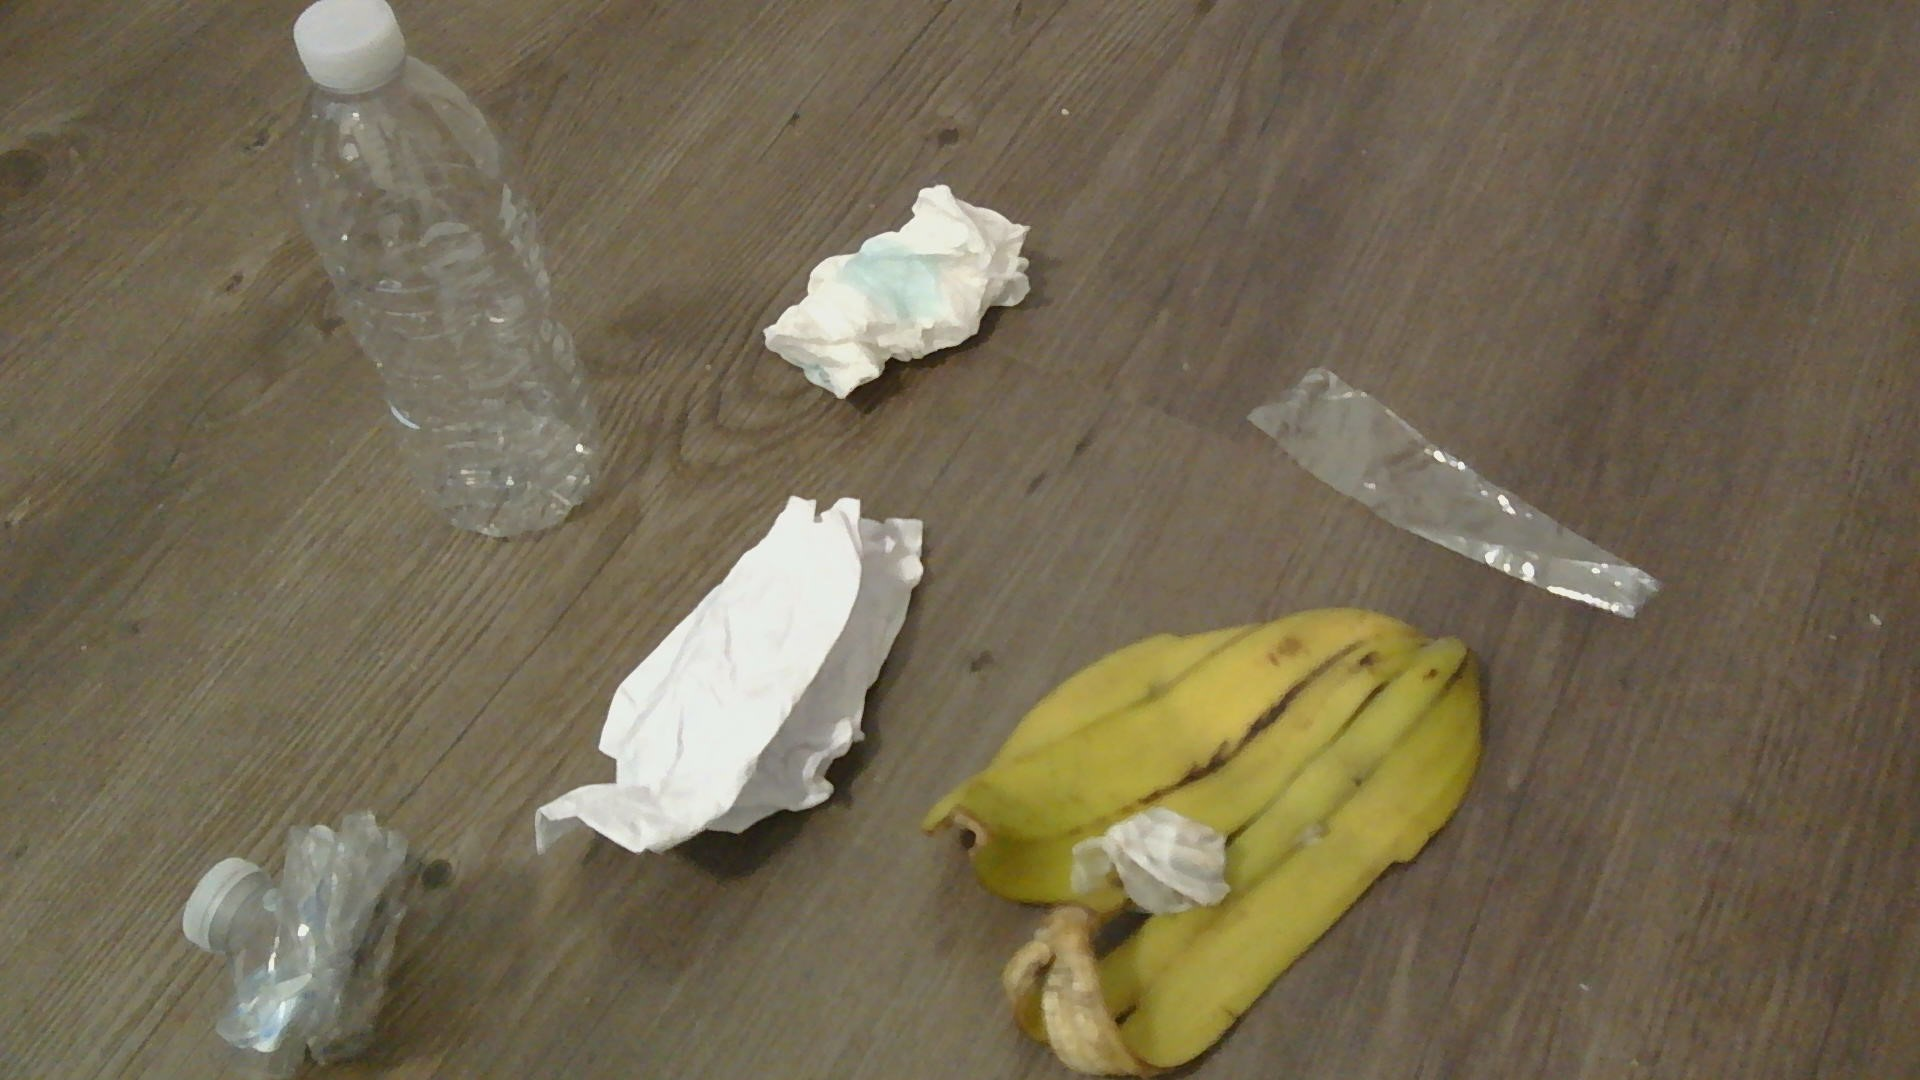banana: (918, 607, 1491, 1080)
bone: (1242, 367, 1659, 615)
bottle: (282, 0, 603, 543)
bottle cap: (294, 0, 411, 99)
crushed bottle: (174, 810, 447, 1071)
napkin: (534, 487, 927, 855)
paper: (762, 174, 1035, 400), (1087, 798, 1226, 915)
plastic piece: (1242, 367, 1659, 615)
resin: (174, 810, 447, 1071)
stab: (1242, 367, 1659, 615)
swab: (174, 810, 447, 1059)
thimble: (294, 0, 411, 99), (174, 847, 280, 951)
